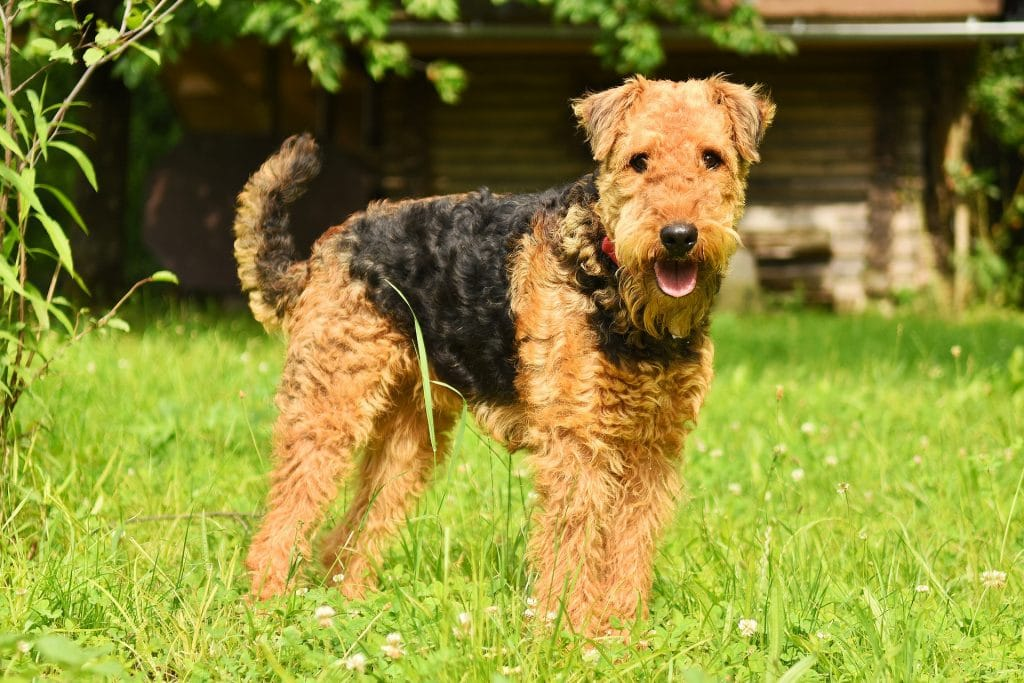dog: (208, 65, 812, 627)
